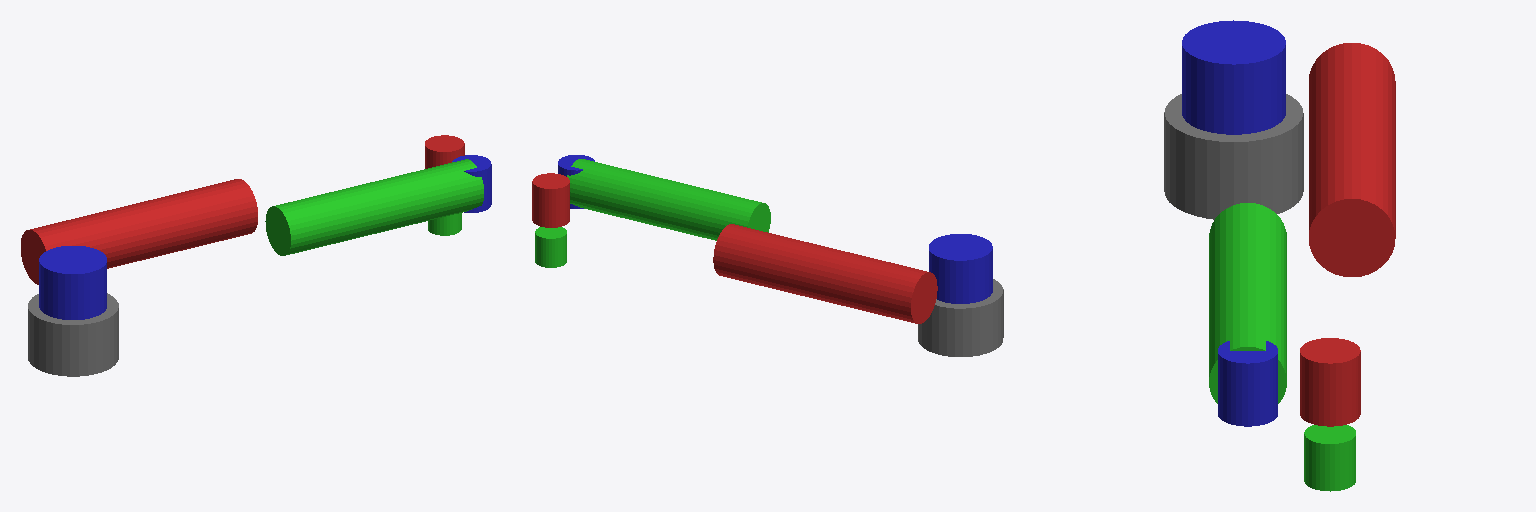
robot.urdf — ur5:
<?xml version="1.0"?>
<robot name="ur5">
  
  <!-- Base Link -->
  <link name="base_link">
    <visual>
      <geometry>
        <cylinder radius="0.08" length="0.1"/>
      </geometry>
      <material name="grey">
        <color rgba="0.5 0.5 0.5 1"/>
      </material>
    </visual>
    <collision>
      <geometry>
        <cylinder radius="0.08" length="0.1"/>
      </geometry>
    </collision>
    <inertial>
      <mass value="4.0"/>
      <inertia ixx="0.00443333" ixy="0" ixz="0" iyy="0.00443333" iyz="0" izz="0.0072"/>
    </inertial>
  </link>

  <!-- Shoulder Link -->
  <link name="shoulder_link">
    <visual>
      <geometry>
        <cylinder radius="0.06" length="0.1"/>
      </geometry>
      <material name="blue">
        <color rgba="0.2 0.2 0.8 1"/>
      </material>
    </visual>
    <collision>
      <geometry>
        <cylinder radius="0.06" length="0.1"/>
      </geometry>
    </collision>
    <inertial>
      <mass value="3.7"/>
      <inertia ixx="0.010267" ixy="0" ixz="0" iyy="0.010267" iyz="0" izz="0.00666"/>
    </inertial>
  </link>

  <joint name="shoulder_pan_joint" type="revolute">
    <parent link="base_link"/>
    <child link="shoulder_link"/>
    <origin xyz="0 0 0.089159" rpy="0 0 0"/>
    <axis xyz="0 0 1"/>
    <limit lower="-6.28" upper="6.28" effort="150" velocity="3.15"/>
    <dynamics damping="0.5" friction="0.1"/>
  </joint>

  <!-- Upper Arm Link -->
  <link name="upper_arm_link">
    <visual>
      <origin xyz="0 0 0.2125" rpy="0 0 0"/>
      <geometry>
        <cylinder radius="0.05" length="0.425"/>
      </geometry>
      <material name="red">
        <color rgba="0.8 0.2 0.2 1"/>
      </material>
    </visual>
    <collision>
      <origin xyz="0 0 0.2125" rpy="0 0 0"/>
      <geometry>
        <cylinder radius="0.05" length="0.425"/>
      </geometry>
    </collision>
    <inertial>
      <origin xyz="0 0 0.2125" rpy="0 0 0"/>
      <mass value="8.393"/>
      <inertia ixx="0.2269" ixy="0" ixz="0" iyy="0.2269" iyz="0" izz="0.0151"/>
    </inertial>
  </link>

  <joint name="shoulder_lift_joint" type="revolute">
    <parent link="shoulder_link"/>
    <child link="upper_arm_link"/>
    <origin xyz="0 0.13585 0" rpy="0 1.570796327 0"/>
    <axis xyz="0 1 0"/>
    <limit lower="-6.28" upper="6.28" effort="150" velocity="3.15"/>
    <dynamics damping="0.5" friction="0.1"/>
  </joint>

  <!-- Forearm Link -->
  <link name="forearm_link">
    <visual>
      <origin xyz="0 0 0.196125" rpy="0 0 0"/>
      <geometry>
        <cylinder radius="0.045" length="0.39225"/>
      </geometry>
      <material name="green">
        <color rgba="0.2 0.8 0.2 1"/>
      </material>
    </visual>
    <collision>
      <origin xyz="0 0 0.196125" rpy="0 0 0"/>
      <geometry>
        <cylinder radius="0.045" length="0.39225"/>
      </geometry>
    </collision>
    <inertial>
      <origin xyz="0 0 0.196125" rpy="0 0 0"/>
      <mass value="2.275"/>
      <inertia ixx="0.0494" ixy="0" ixz="0" iyy="0.0494" iyz="0" izz="0.004095"/>
    </inertial>
  </link>

  <joint name="elbow_joint" type="revolute">
    <parent link="upper_arm_link"/>
    <child link="forearm_link"/>
    <origin xyz="0 -0.1197 0.425" rpy="0 0 0"/>
    <axis xyz="0 1 0"/>
    <limit lower="-3.14" upper="3.14" effort="150" velocity="3.15"/>
    <dynamics damping="0.5" friction="0.1"/>
  </joint>

  <!-- Wrist 1 Link -->
  <link name="wrist_1_link">
    <visual>
      <geometry>
        <cylinder radius="0.035" length="0.08"/>
      </geometry>
      <material name="blue">
        <color rgba="0.2 0.2 0.8 1"/>
      </material>
    </visual>
    <collision>
      <geometry>
        <cylinder radius="0.035" length="0.08"/>
      </geometry>
    </collision>
    <inertial>
      <mass value="1.219"/>
      <inertia ixx="0.00256" ixy="0" ixz="0" iyy="0.00256" iyz="0" izz="0.0021942"/>
    </inertial>
  </link>

  <joint name="wrist_1_joint" type="revolute">
    <parent link="forearm_link"/>
    <child link="wrist_1_link"/>
    <origin xyz="0 0 0.39225" rpy="0 1.570796327 0"/>
    <axis xyz="0 1 0"/>
    <limit lower="-6.28" upper="6.28" effort="28" velocity="3.2"/>
    <dynamics damping="0.1" friction="0.05"/>
  </joint>

  <!-- Wrist 2 Link -->
  <link name="wrist_2_link">
    <visual>
      <geometry>
        <cylinder radius="0.035" length="0.08"/>
      </geometry>
      <material name="red">
        <color rgba="0.8 0.2 0.2 1"/>
      </material>
    </visual>
    <collision>
      <geometry>
        <cylinder radius="0.035" length="0.08"/>
      </geometry>
    </collision>
    <inertial>
      <mass value="1.219"/>
      <inertia ixx="0.00256" ixy="0" ixz="0" iyy="0.00256" iyz="0" izz="0.0021942"/>
    </inertial>
  </link>

  <joint name="wrist_2_joint" type="revolute">
    <parent link="wrist_1_link"/>
    <child link="wrist_2_link"/>
    <origin xyz="0 0.09465 0" rpy="0 0 0"/>
    <axis xyz="0 0 1"/>
    <limit lower="-6.28" upper="6.28" effort="28" velocity="3.2"/>
    <dynamics damping="0.1" friction="0.05"/>
  </joint>

  <!-- Wrist 3 Link -->
  <link name="wrist_3_link">
    <visual>
      <geometry>
        <cylinder radius="0.03" length="0.06"/>
      </geometry>
      <material name="green">
        <color rgba="0.2 0.8 0.2 1"/>
      </material>
    </visual>
    <collision>
      <geometry>
        <cylinder radius="0.03" length="0.06"/>
      </geometry>
    </collision>
    <inertial>
      <mass value="0.1879"/>
      <inertia ixx="0.000132" ixy="0" ixz="0" iyy="0.000132" iyz="0" izz="0.000132"/>
    </inertial>
  </link>

  <joint name="wrist_3_joint" type="revolute">
    <parent link="wrist_2_link"/>
    <child link="wrist_3_link"/>
    <origin xyz="0 0 0.09465" rpy="0 0 0"/>
    <axis xyz="0 1 0"/>
    <limit lower="-6.28" upper="6.28" effort="28" velocity="3.2"/>
    <dynamics damping="0.1" friction="0.05"/>
  </joint>

</robot>

--- Render facts (derived) ---
3 views of the same robot in one strip: view 1: azimuth 30°, elevation 25°; view 2: azimuth 150°, elevation 25°; view 3: azimuth 270°, elevation 25° (orthographic).
Robot: ur5 — 7 links, 6 joints (6 revolute); root link base_link; default pose: all joints at 0.
Visible links, largest first — view 1: upper_arm_link, forearm_link, base_link, shoulder_link, wrist_2_link, wrist_1_link, wrist_3_link; view 2: upper_arm_link, forearm_link, base_link, shoulder_link, wrist_2_link, wrist_3_link; view 3: upper_arm_link, base_link, forearm_link, shoulder_link, wrist_2_link, wrist_1_link, wrist_3_link.
Link boxes in pixels (left/top/right/bottom): upper_arm_link: left=21, top=179, right=257, bottom=284; forearm_link: left=265, top=159, right=483, bottom=255; base_link: left=28, top=293, right=118, bottom=376; shoulder_link: left=39, top=246, right=106, bottom=319; wrist_2_link: left=425, top=135, right=464, bottom=168; wrist_1_link: left=452, top=155, right=491, bottom=212; wrist_3_link: left=428, top=213, right=461, bottom=235; upper_arm_link: left=713, top=224, right=937, bottom=323; forearm_link: left=567, top=159, right=770, bottom=240; base_link: left=918, top=279, right=1003, bottom=356; shoulder_link: left=929, top=234, right=992, bottom=303; wrist_2_link: left=532, top=173, right=569, bottom=227; wrist_3_link: left=535, top=227, right=566, bottom=267; upper_arm_link: left=1309, top=43, right=1395, bottom=276; base_link: left=1164, top=94, right=1303, bottom=219; forearm_link: left=1209, top=203, right=1286, bottom=403; shoulder_link: left=1182, top=20, right=1285, bottom=134; wrist_2_link: left=1300, top=338, right=1360, bottom=426; wrist_1_link: left=1218, top=341, right=1277, bottom=426; wrist_3_link: left=1304, top=425, right=1355, bottom=491.
Size in the robot's own frame: 0.9322 by 0.2659 by 0.1892 metres.
Geometry: primitives only (box / cylinder / sphere), no mesh files.